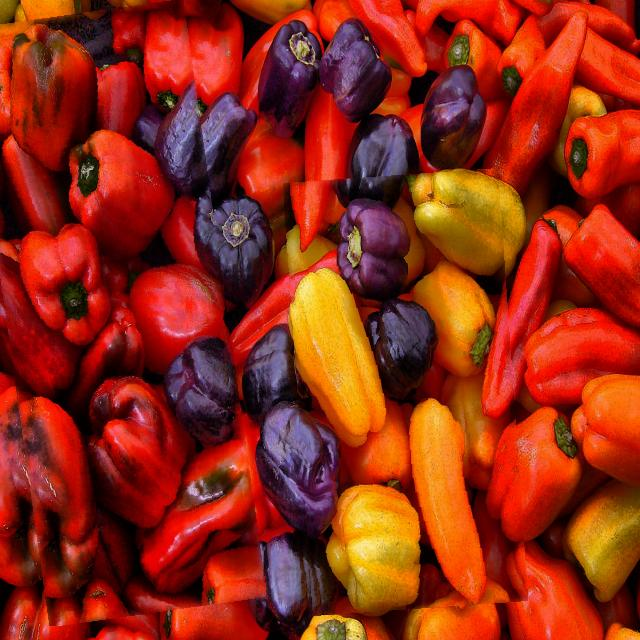capsicum: (291, 171, 521, 613)
red capsicum: (0, 4, 246, 620)
